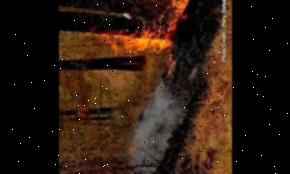fire: (86, 0, 216, 67)
